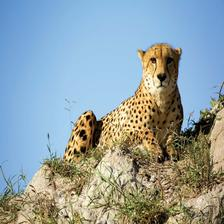Cheetah: (60, 41, 185, 167)
